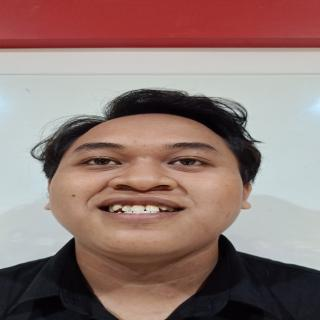Senang: (47, 110, 258, 268)
